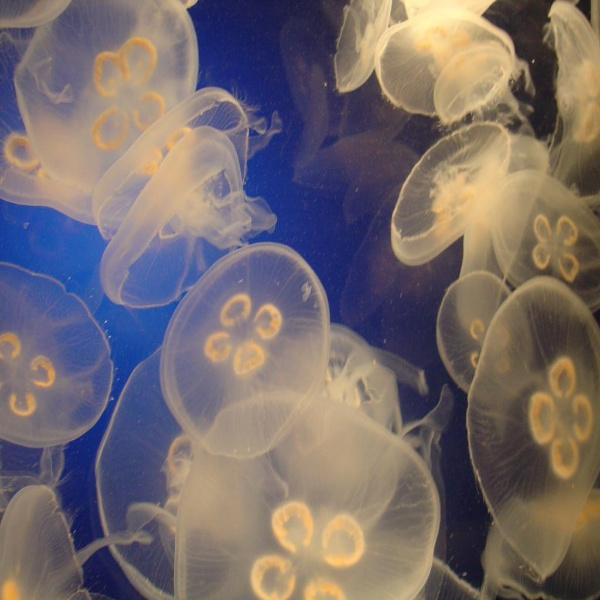Jellyfish: (96, 325, 437, 599), (0, 0, 277, 308), (169, 398, 444, 599), (449, 266, 600, 572), (162, 239, 329, 465), (0, 266, 117, 450), (372, 0, 517, 126), (486, 167, 599, 324), (0, 482, 149, 599), (391, 122, 517, 255), (433, 258, 533, 409), (475, 491, 599, 599), (550, 0, 599, 188), (333, 0, 394, 88)
